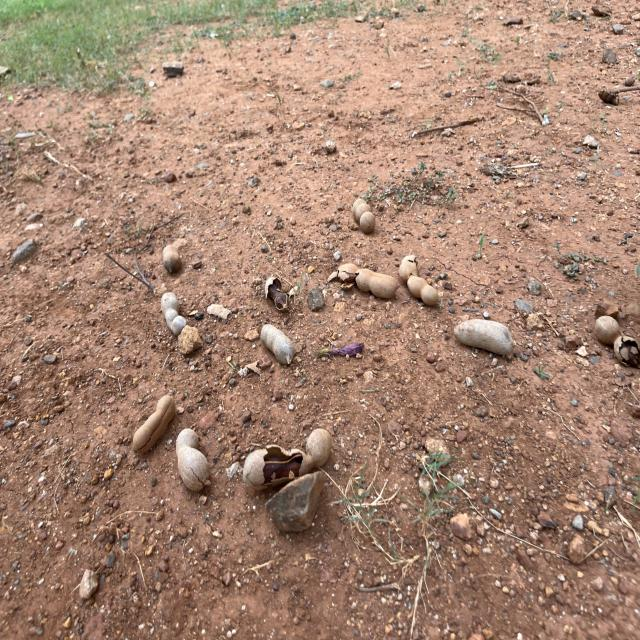tamarind: (330, 264, 398, 299), (454, 320, 516, 355), (399, 256, 439, 305), (262, 320, 294, 366), (162, 292, 186, 336), (265, 276, 289, 313), (353, 198, 375, 234), (165, 246, 187, 276)
